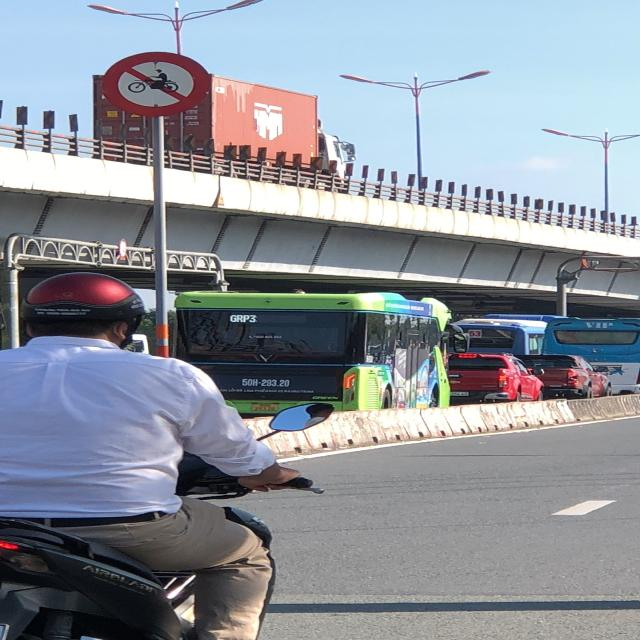Bien bao cam xe may: (96, 49, 209, 121)
